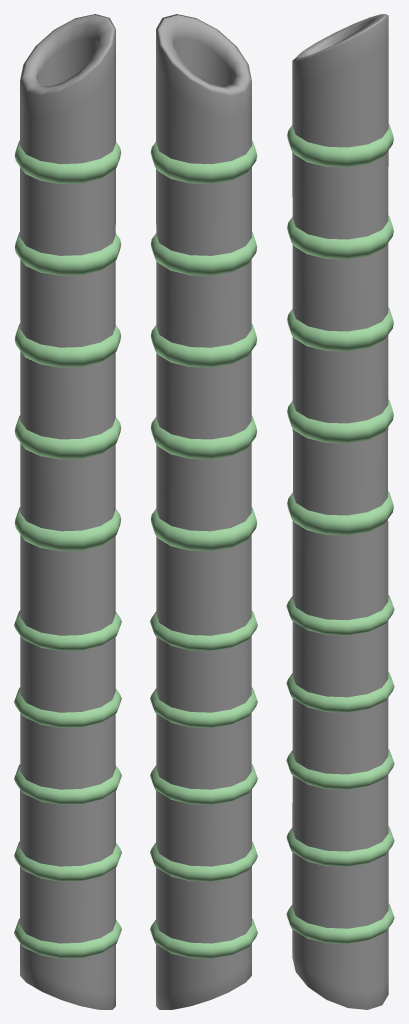
The model's file is Bamboo.fbx.
3 views of the same model, side by side, from view 1: azimuth 30°, elevation 25°; view 2: azimuth 150°, elevation 25°; view 3: azimuth 330°, elevation 25° (orthographic).
Visible parts, largest first — view 1: pTorus8; view 2: pTorus8; view 3: pTorus8.
Part boxes in pixels (left/top/right/bottom): pTorus8: left=14, top=14, right=121, bottom=1009; pTorus8: left=150, top=14, right=257, bottom=1009; pTorus8: left=286, top=14, right=394, bottom=1009.
Size of the model in its own units: 1.8 by 18.01 by 1.76.
